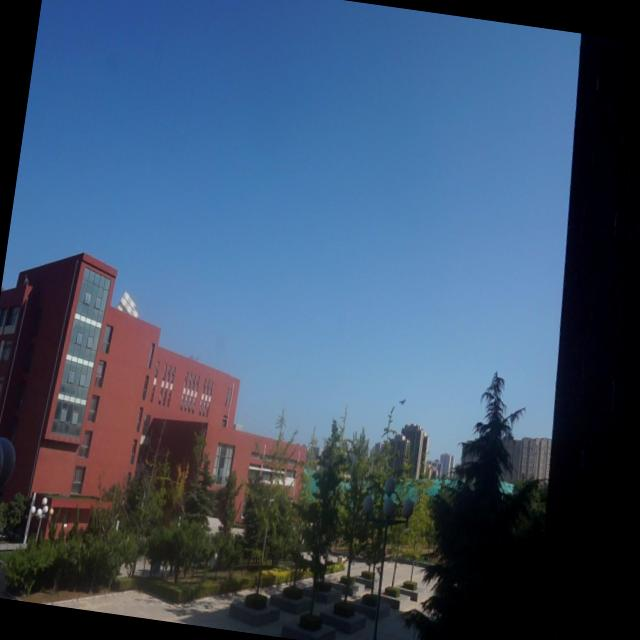drone: (397, 393, 410, 409)
